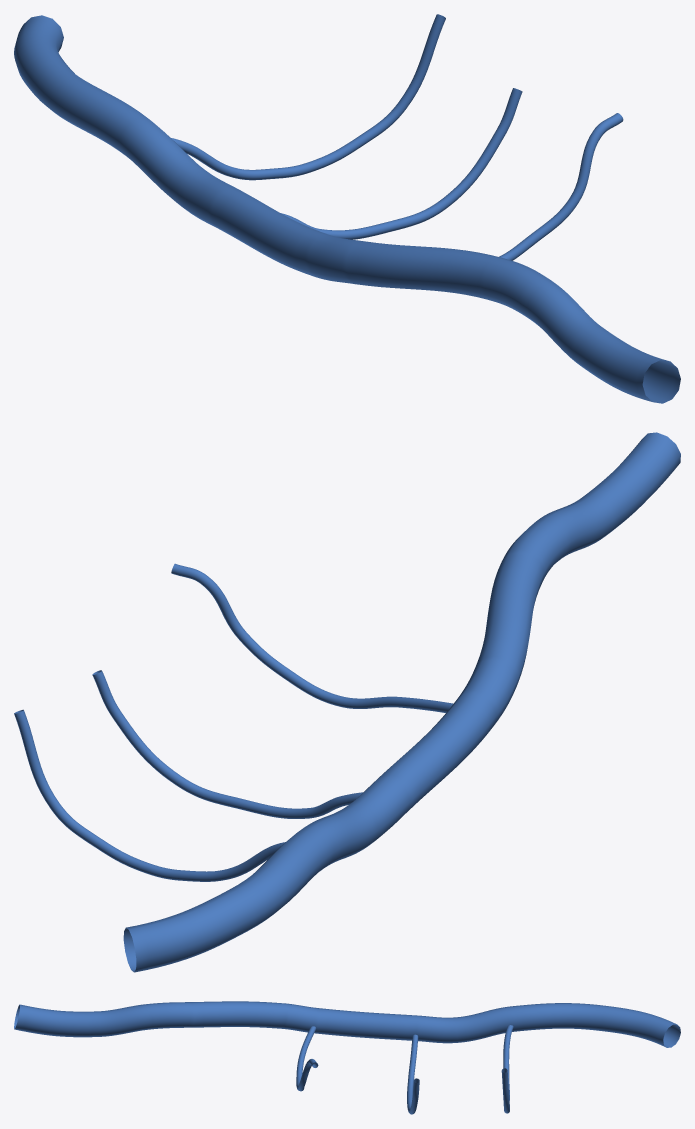
The picture shows the model from 3 angles, top to bottom: view 1: azimuth 30°, elevation 25°; view 2: azimuth 150°, elevation 25°; view 3: azimuth 270°, elevation 25°; orthographic projection. The views are drawn at different scales.
Visible parts, largest first — view 1: 右腰升静脉; view 2: 右腰升静脉; view 3: 右腰升静脉.
Part boxes in pixels (box(x1,y1,x2,y2)): 右腰升静脉: box(14, 14, 680, 403); 右腰升静脉: box(14, 432, 680, 972); 右腰升静脉: box(14, 1001, 680, 1114).
Size of the model in its own units: 0.0779 by 0.032 by 0.2299.
